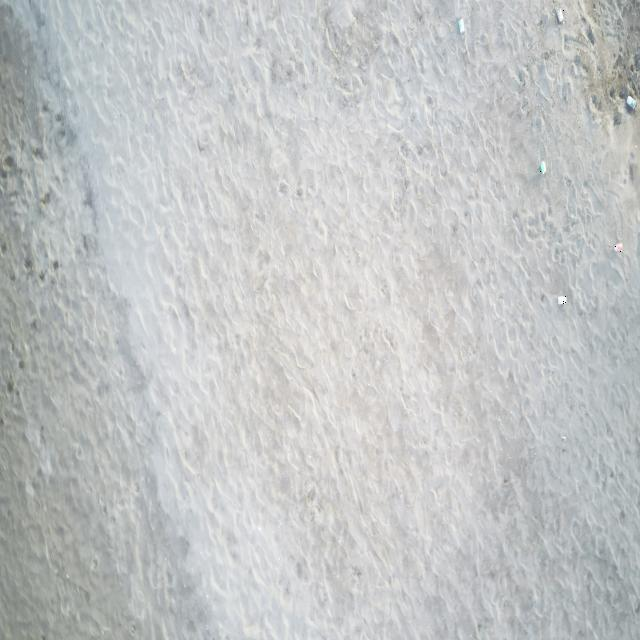tin-and-aluminum-cans: (626, 95, 637, 109), (556, 8, 564, 24), (458, 18, 465, 34), (540, 162, 546, 176), (558, 296, 567, 305), (614, 242, 622, 252)
